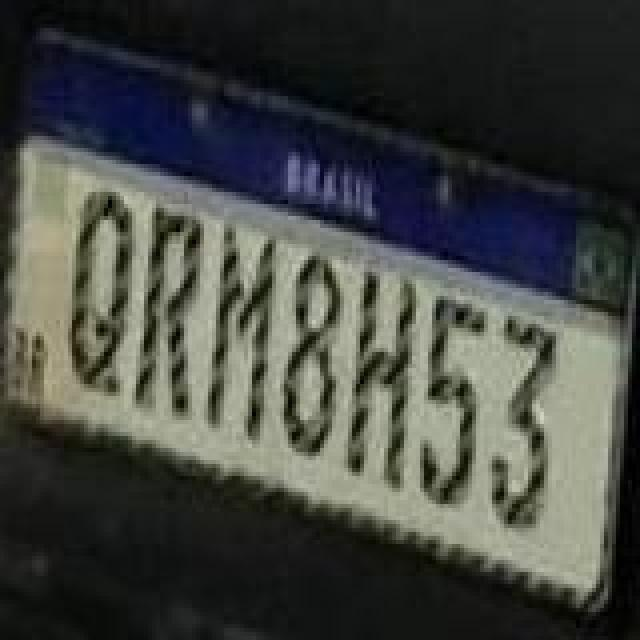3: (488, 314, 560, 534)
5: (420, 292, 492, 508)
8: (280, 246, 344, 458)
H: (348, 274, 420, 494)
M: (204, 222, 276, 450)
Q: (70, 188, 138, 404)
R: (132, 204, 204, 420)
